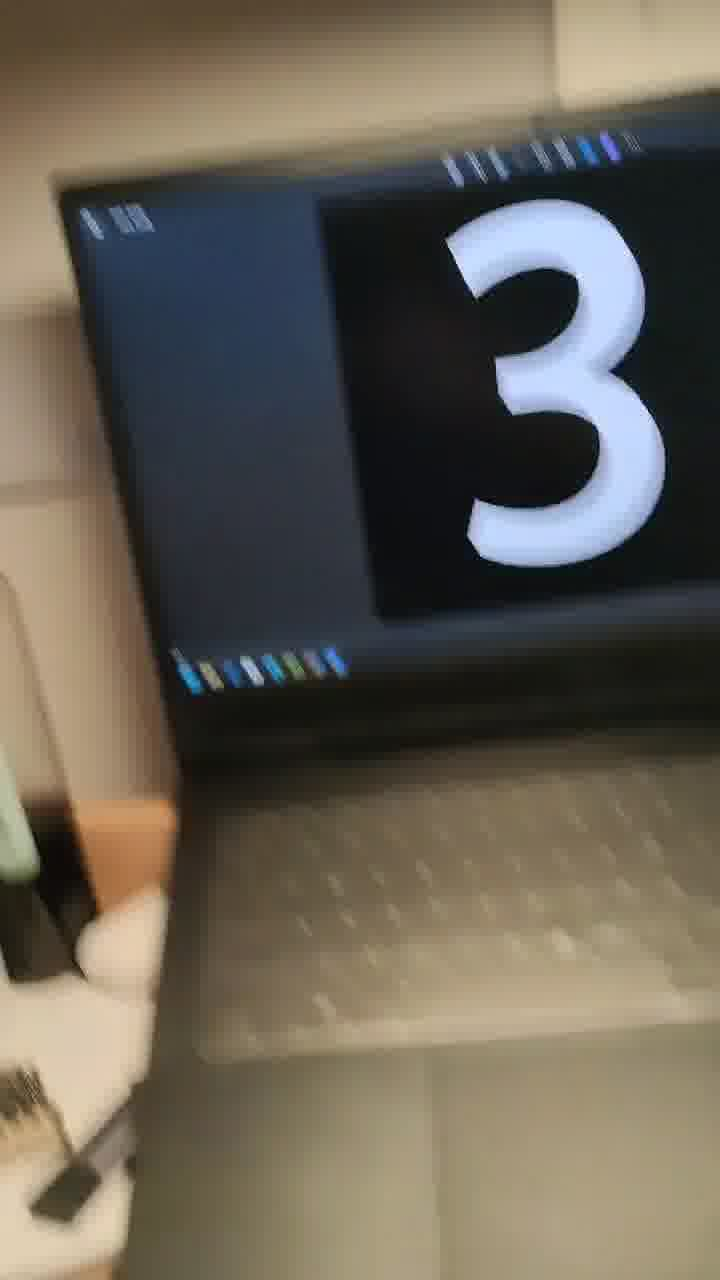three: (439, 194, 720, 671)
